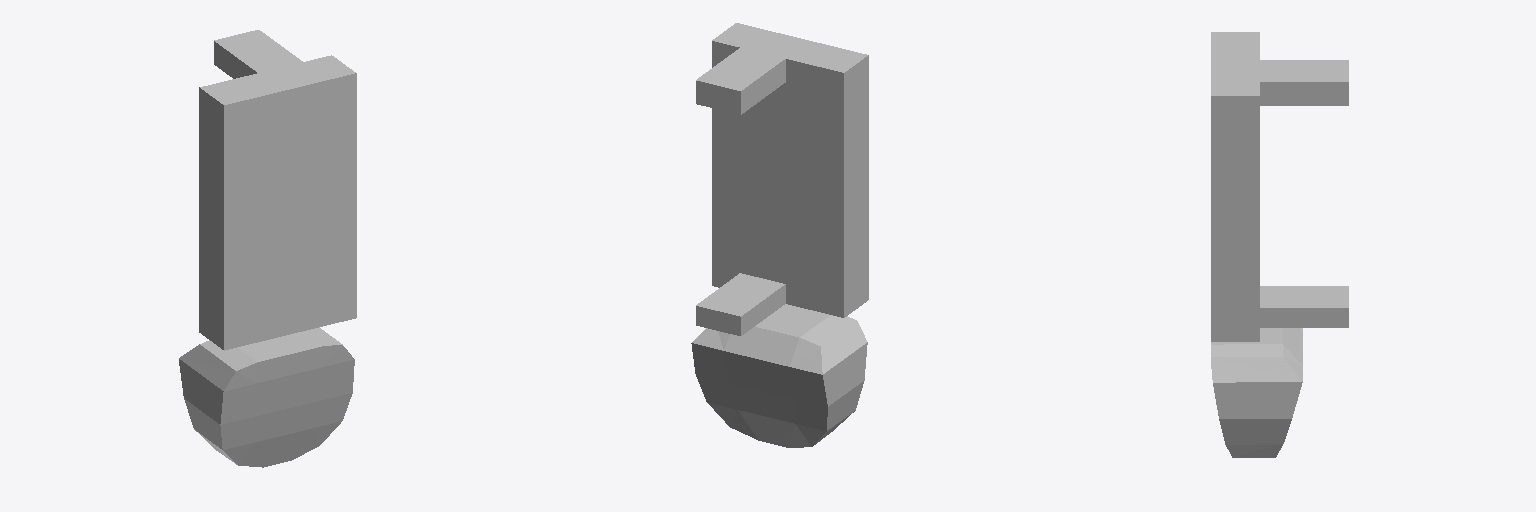
File: L_AAA.obj
3 views of the same model, side by side, from view 1: azimuth 30°, elevation 25°; view 2: azimuth 150°, elevation 25°; view 3: azimuth 270°, elevation 25° (orthographic).
Parts seen in each view (by area): view 1: R_AAA1; view 2: R_AAA1; view 3: R_AAA1.
Boxes of the visible parts, x1,y1,x2,y2 form: R_AAA1: [179, 30, 356, 467]; R_AAA1: [691, 23, 868, 447]; R_AAA1: [1211, 32, 1348, 457].
Bounding box in the file's own units: 3.51 × 9.69 × 3.18.